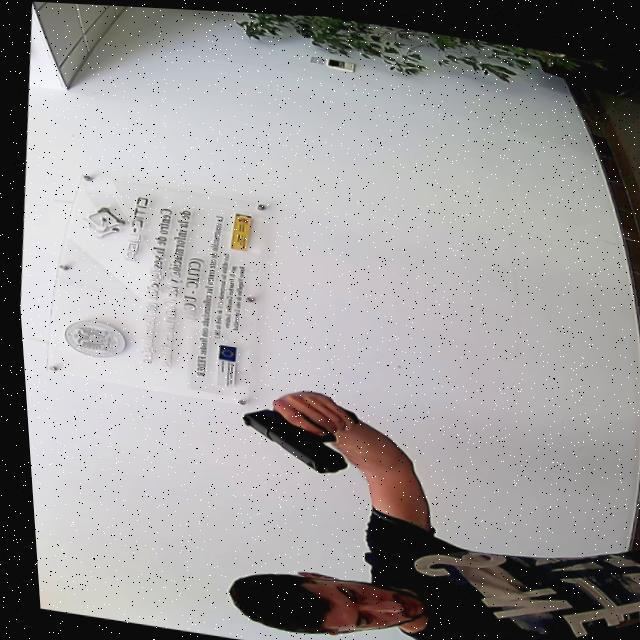pistol: (228, 399, 347, 473)
